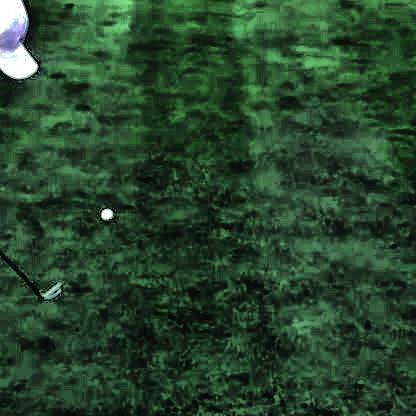golfball: (99, 207, 111, 218)
